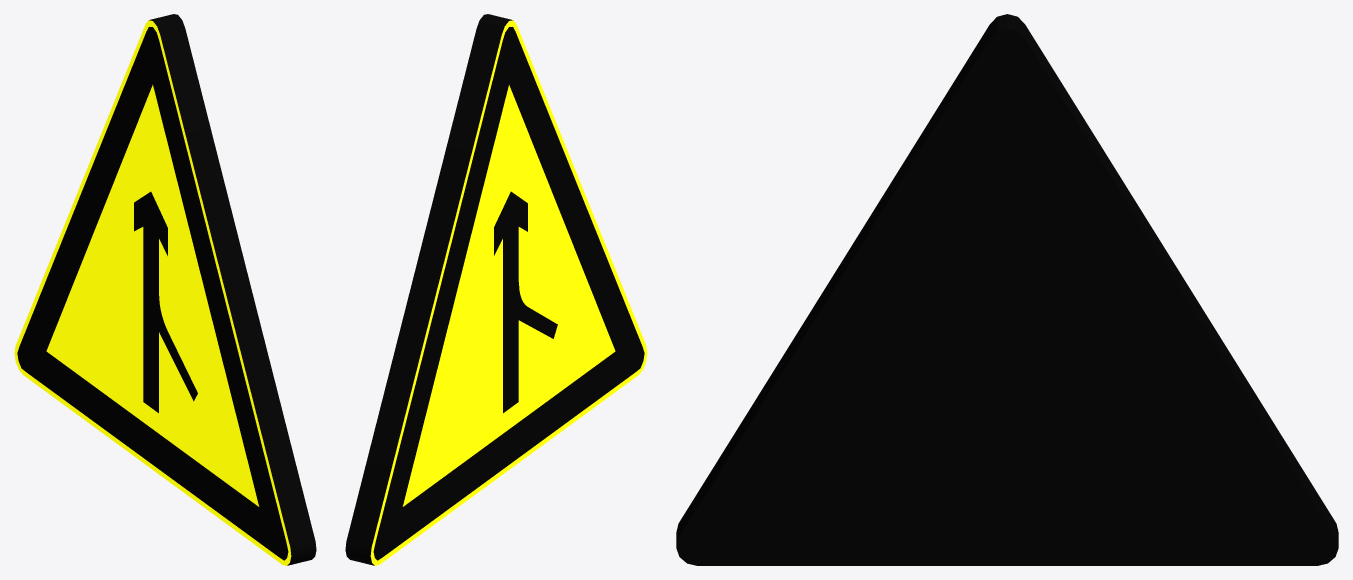
File: Attention_ To_Confluence.glb
3 renders of one model, left to right at view 1: azimuth 30°, elevation 25°; view 2: azimuth 150°, elevation 25°; view 3: azimuth 270°, elevation 25°, orthographic. The views are drawn at different scales.
Visible parts, largest first — view 1: Attention__To_Confluence; view 2: Attention__To_Confluence; view 3: Attention__To_Confluence.
Part boxes in pixels (<box>): Attention__To_Confluence: <box>14,14,316,565</box>; Attention__To_Confluence: <box>345,14,647,565</box>; Attention__To_Confluence: <box>676,14,1338,565</box>.
Bounding box in the file's own units: 0.0643 × 1.02 × 1.14.
